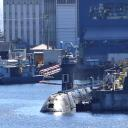submarine: (41, 55, 92, 114)
